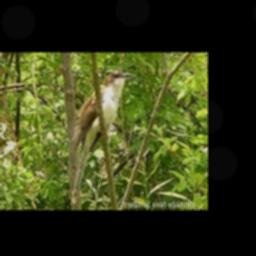Cuckoo: (72, 72, 132, 151)
